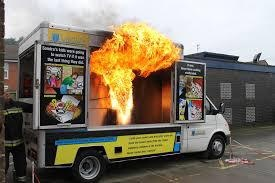fire: (89, 21, 181, 123)
